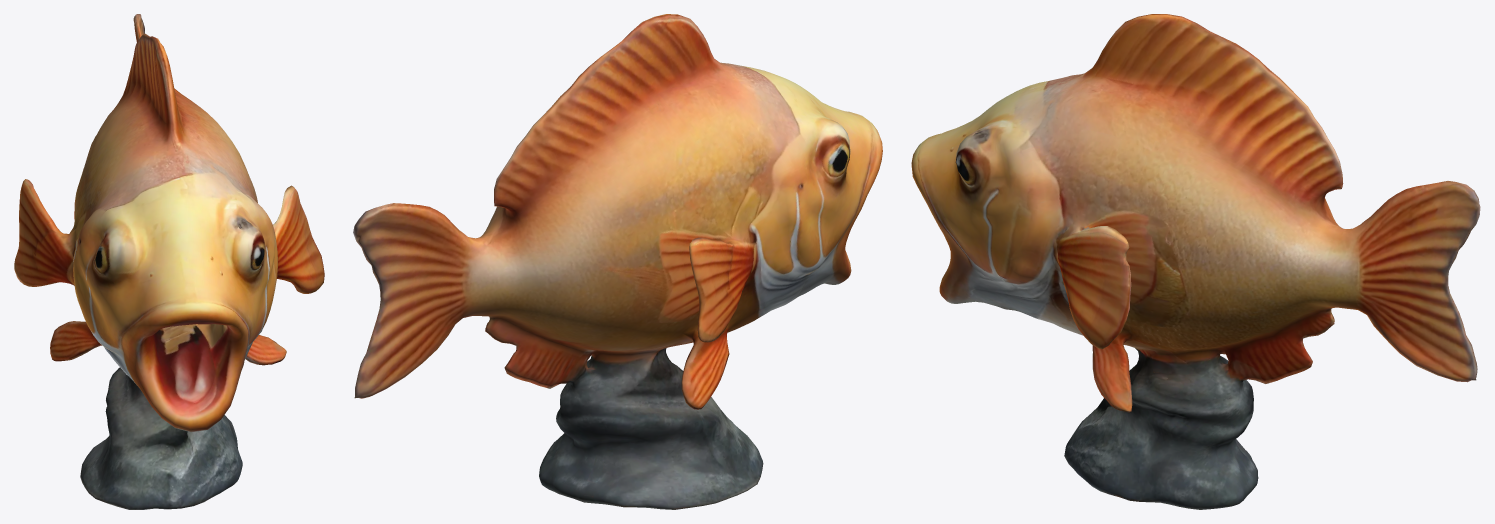
Rendered from FISH_SCULPTURE.glb.
3 views of the same model, side by side, from view 1: azimuth 30°, elevation 25°; view 2: azimuth 150°, elevation 25°; view 3: azimuth 270°, elevation 25° (orthographic). The views are drawn at different scales.
Visible parts, largest first — view 1: Mesh_0; view 2: Mesh_0; view 3: Mesh_0.
Part boxes in pixels (x1=…): Mesh_0: x1=14, y1=14, x2=324, y2=509; Mesh_0: x1=353, y1=14, x2=882, y2=509; Mesh_0: x1=911, y1=14, x2=1480, y2=509.
Bounding box in the file's own units: 1.11 × 1.76 × 2.
Materials: 1 (1 with a texture image).
